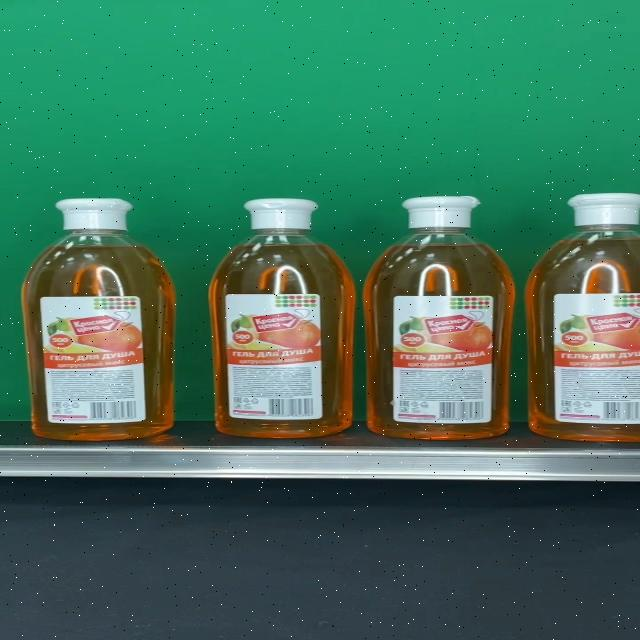Bottle: (363, 195, 516, 440), (21, 199, 176, 438), (208, 197, 356, 438)
Cap: (400, 196, 480, 230), (54, 198, 134, 231), (244, 198, 318, 230)
